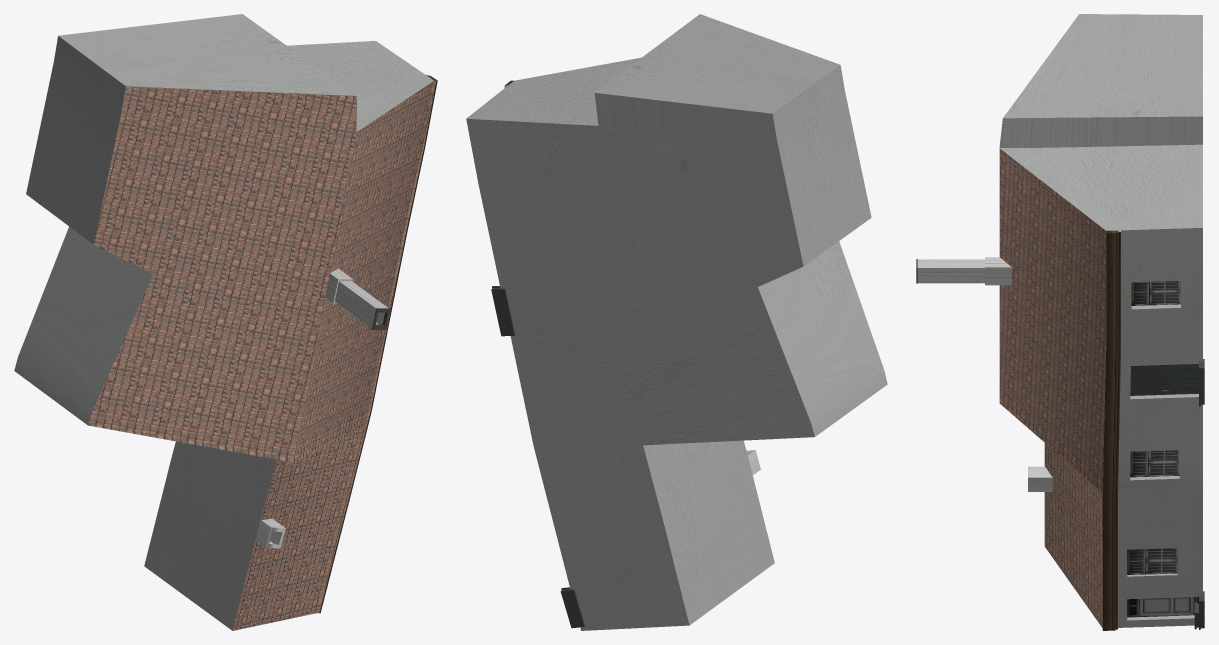
Rendered from Uus_27.obj.
3 views of the same model, side by side, from view 1: azimuth 30°, elevation 25°; view 2: azimuth 150°, elevation 25°; view 3: azimuth 270°, elevation 25° (orthographic). The views are drawn at different scales.
Parts seen in each view (by area): view 1: polySurface10; view 2: polySurface10; view 3: polySurface10.
Part boxes in pixels (x1,y1,x2,y2): polySurface10: [14, 14, 437, 630]; polySurface10: [466, 14, 887, 630]; polySurface10: [916, 14, 1204, 630].
Bounding box in the file's own units: 13.95 × 21.15 × 10.5.
